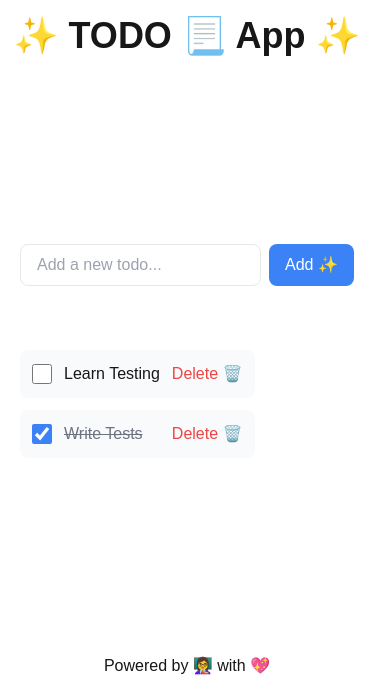
Test: Todo List › should add a new item to the list
In the field with placeholder "Add a new todo...": (140, 265) [20, 244, 261, 286], type "New Todo"
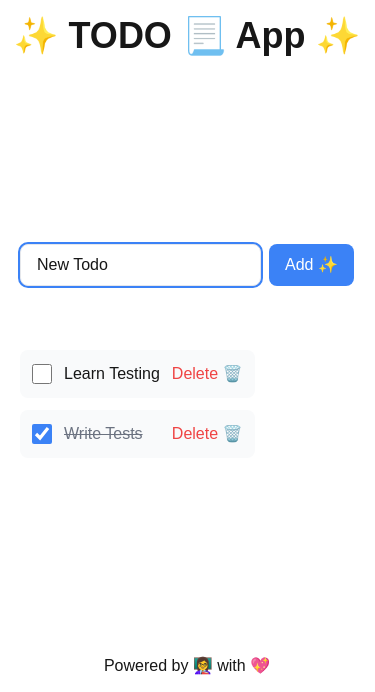
Click the button "Add ✨": (311, 265) [269, 244, 354, 286]
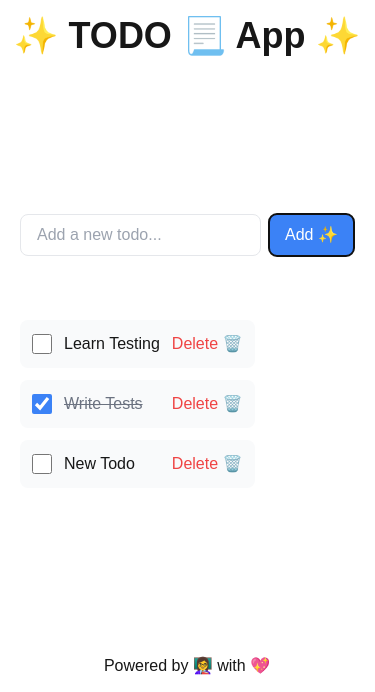
Check: the text "New Todo" is shown, box [64, 455, 135, 472]
